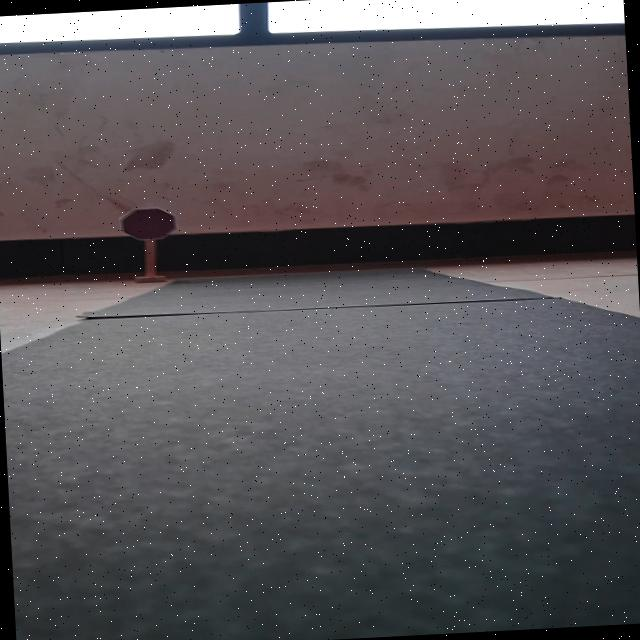Stop: (119, 206, 178, 242)
